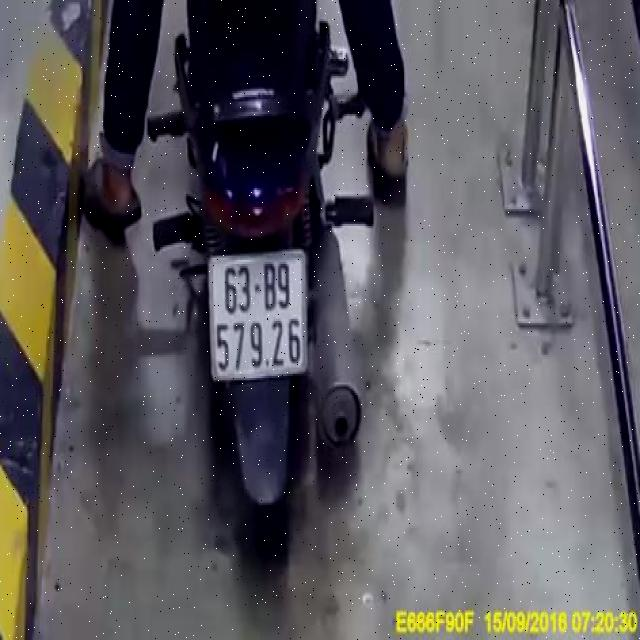2: (269, 313, 285, 370)
3: (236, 262, 254, 314)
5: (213, 320, 231, 372)
6: (222, 262, 240, 316), (287, 314, 302, 368)
7: (230, 318, 247, 373)
9: (276, 256, 292, 310), (247, 320, 264, 370)
B: (261, 260, 278, 312)
